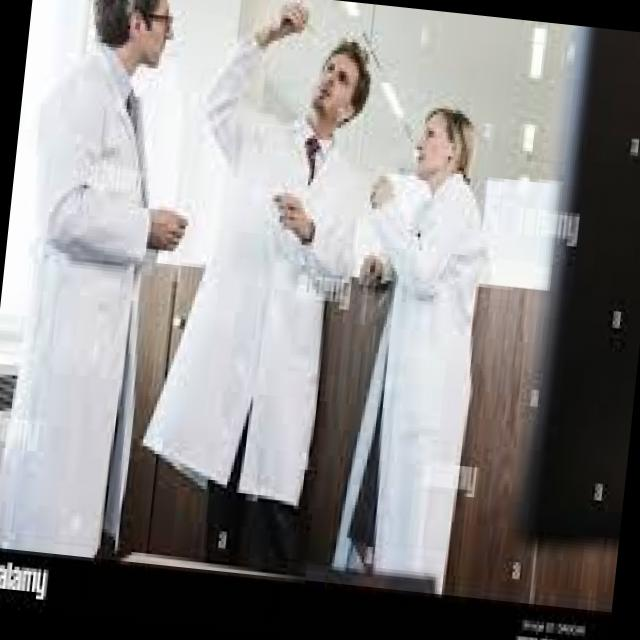Jacket: (344, 150, 499, 564), (37, 50, 197, 438), (206, 88, 364, 472)
